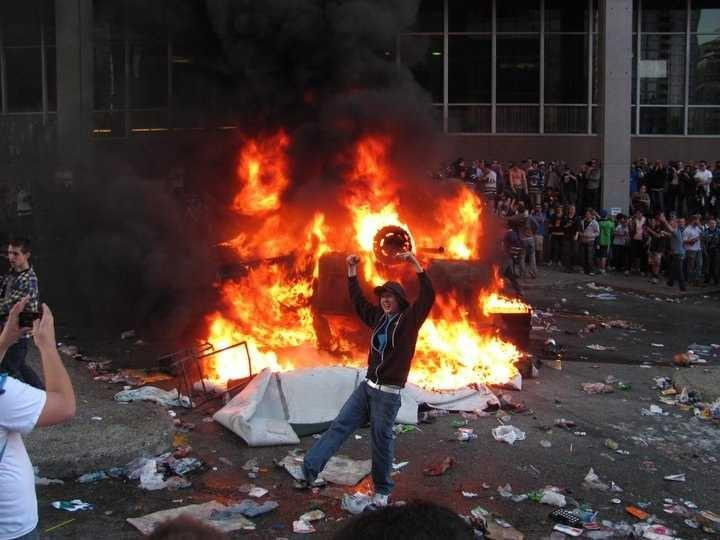fire: (220, 130, 513, 399)
smoke: (180, 12, 462, 106), (50, 152, 190, 322)
